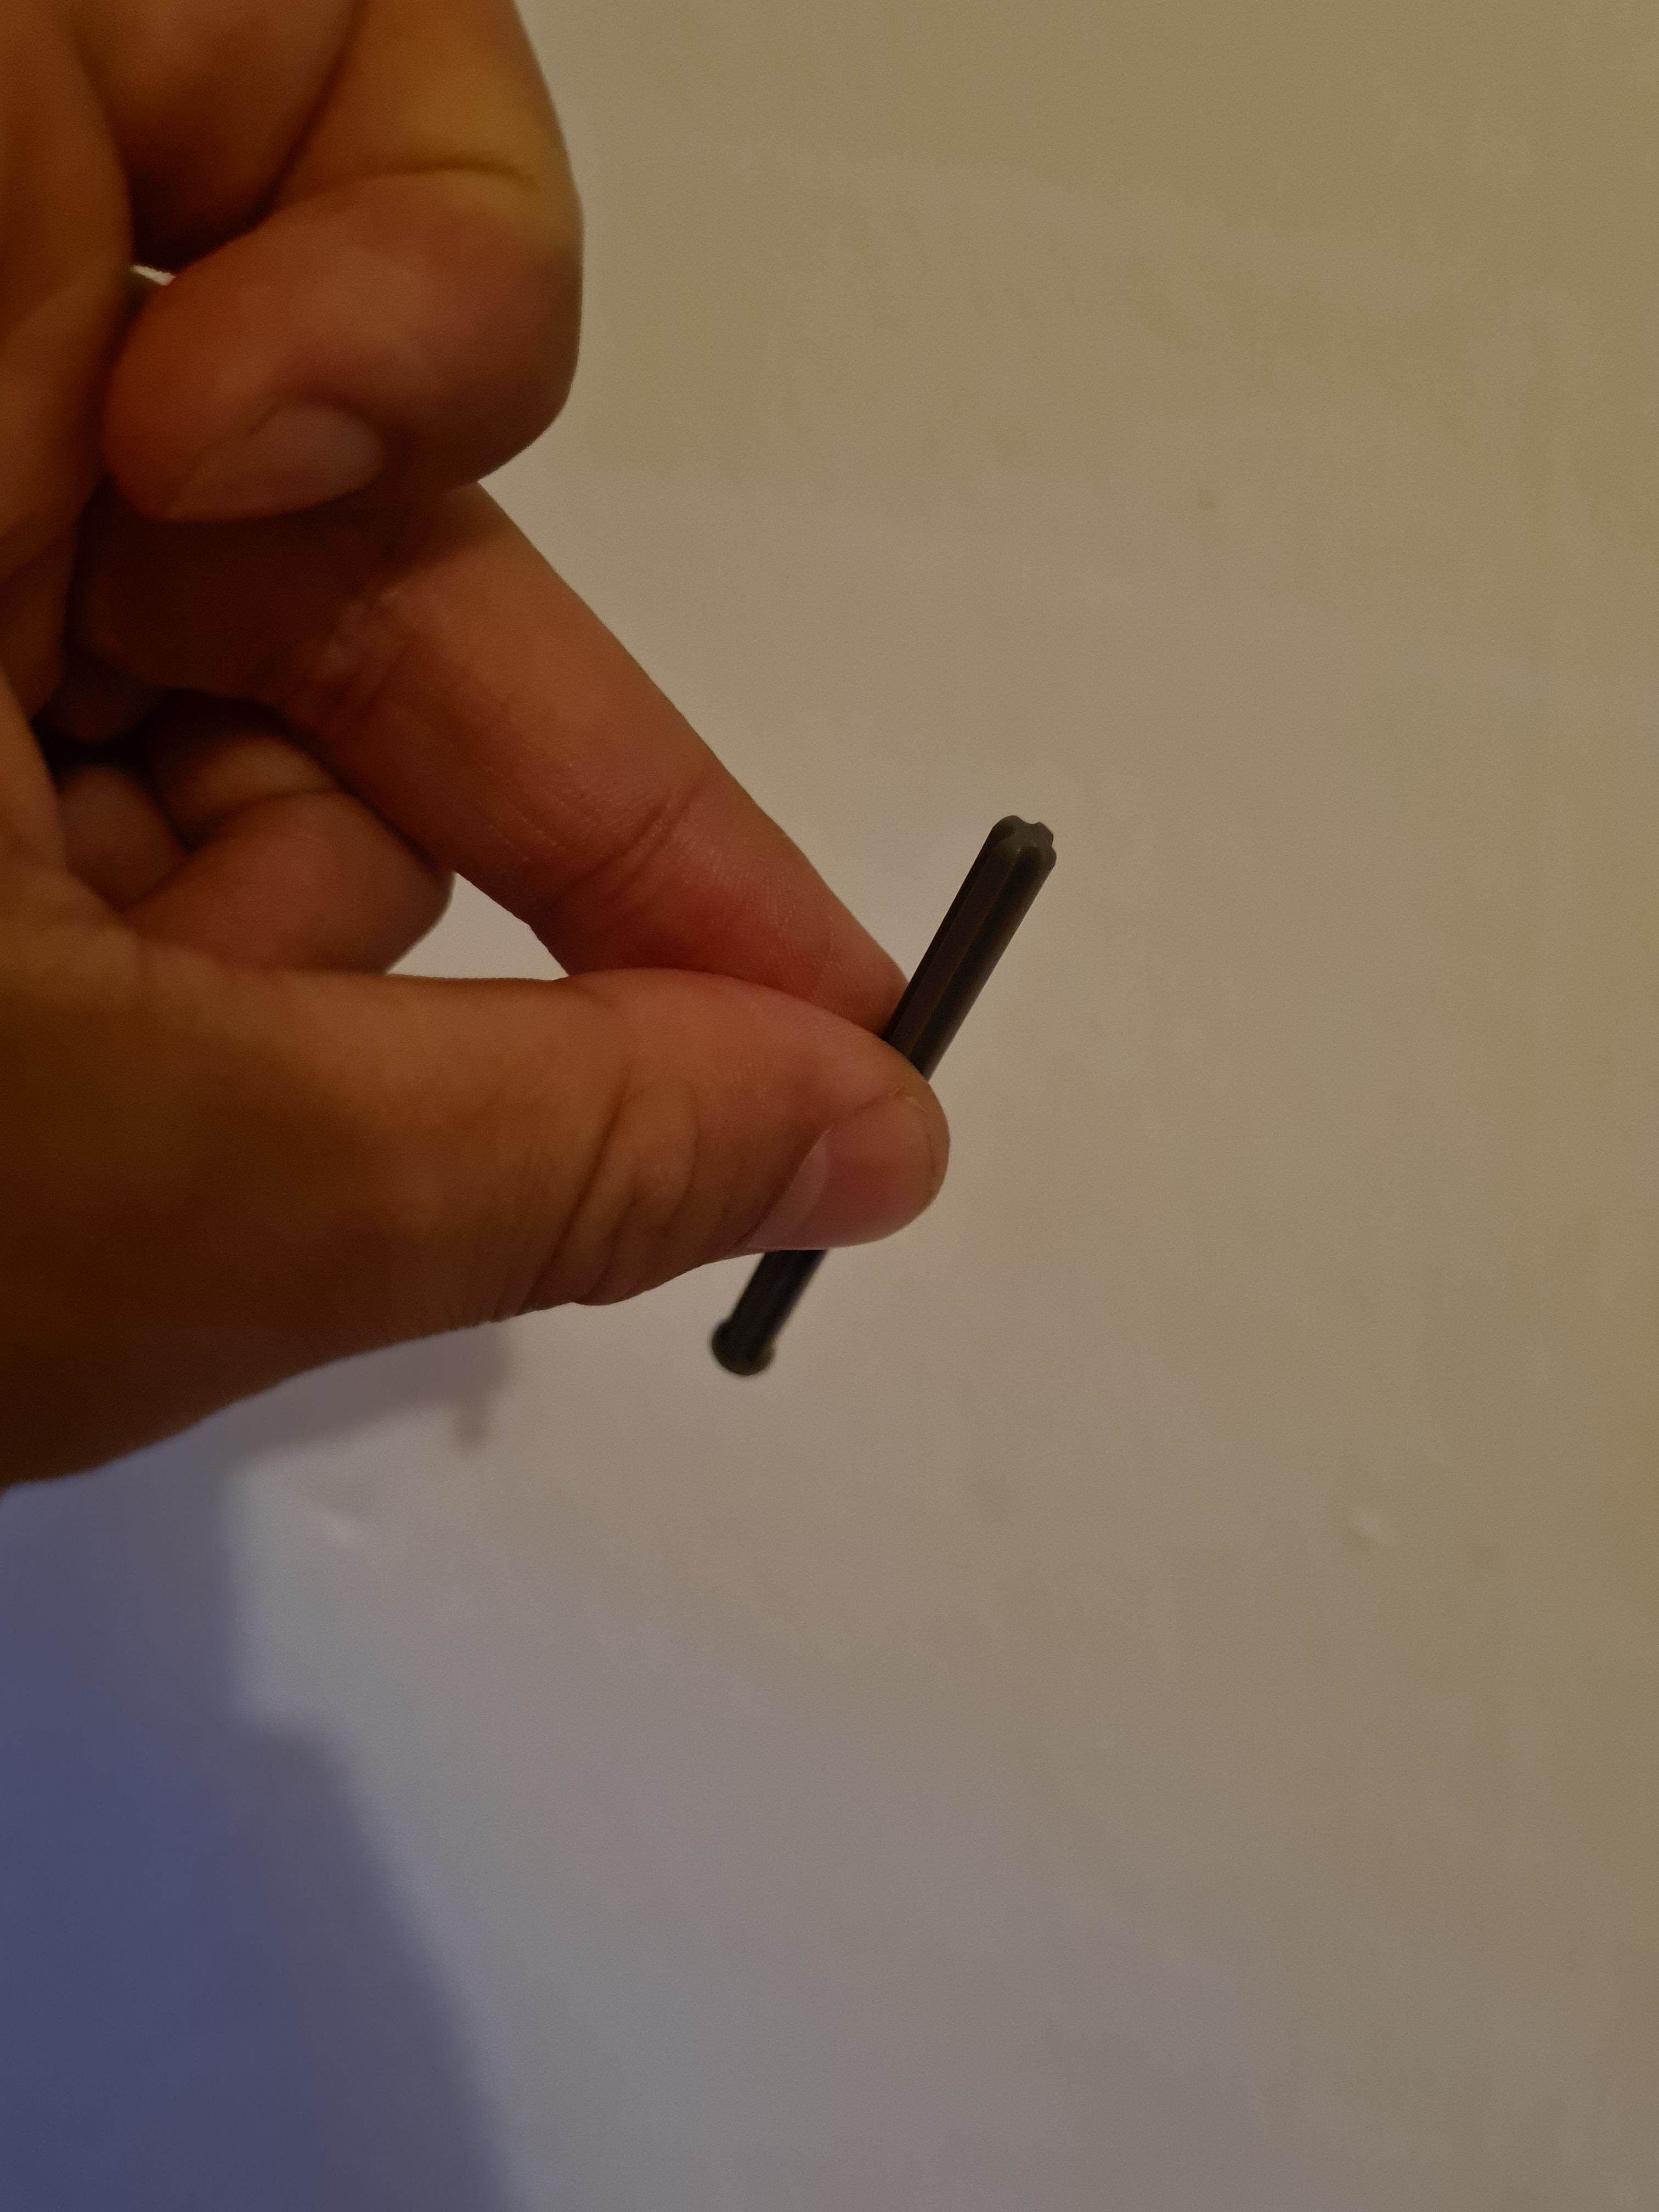Grau_lang: (692, 725, 1077, 1399)
